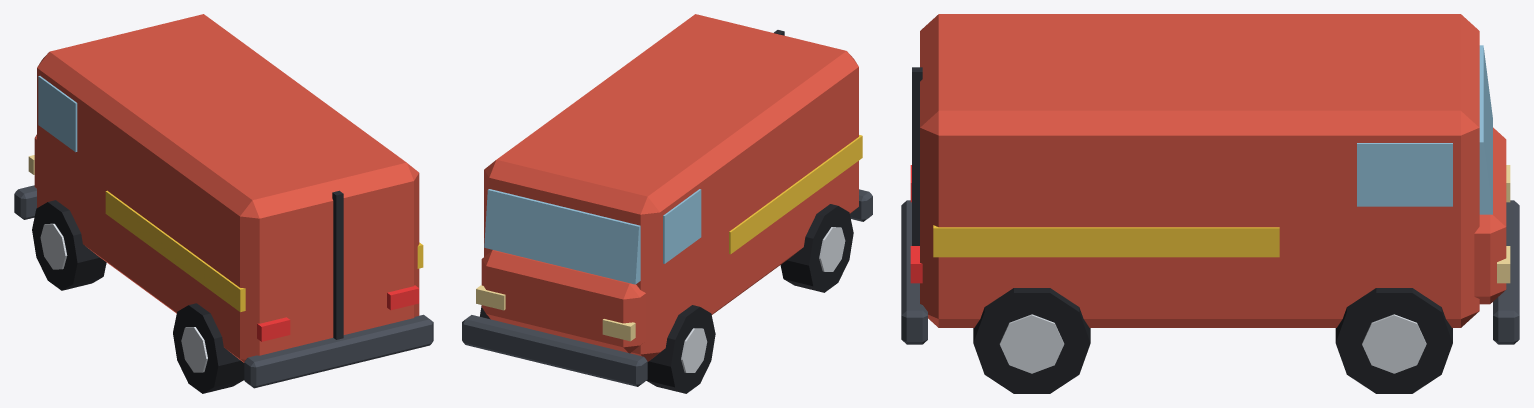
The model's file is cargo_van.glb.
3 views of the same model, side by side, from view 1: azimuth 30°, elevation 25°; view 2: azimuth 150°, elevation 25°; view 3: azimuth 270°, elevation 25° (orthographic). The views are drawn at different scales.
Visible parts, largest first — view 1: Body, Wheel_0L, Wheel_1L; view 2: Body, Wheel_1L, Wheel_0L; view 3: Body, Wheel_1R, Wheel_0R.
Boxes of the visible parts, bbox=[...] form: Body: bbox=[14, 14, 433, 388]; Wheel_0L: bbox=[32, 200, 106, 290]; Wheel_1L: bbox=[173, 303, 244, 393]; Body: bbox=[462, 14, 872, 386]; Wheel_1L: bbox=[780, 204, 853, 292]; Wheel_0L: bbox=[646, 305, 715, 393]; Body: bbox=[901, 14, 1519, 344]; Wheel_1R: bbox=[973, 288, 1090, 393]; Wheel_0R: bbox=[1335, 288, 1452, 393].
Bounding box in the file's own units: 1.11 × 1.12 × 2.32.
Materials: 1 (1 with a texture image).
